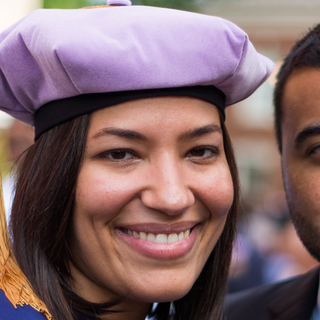eye: (82, 142, 149, 172), (169, 138, 225, 169)
